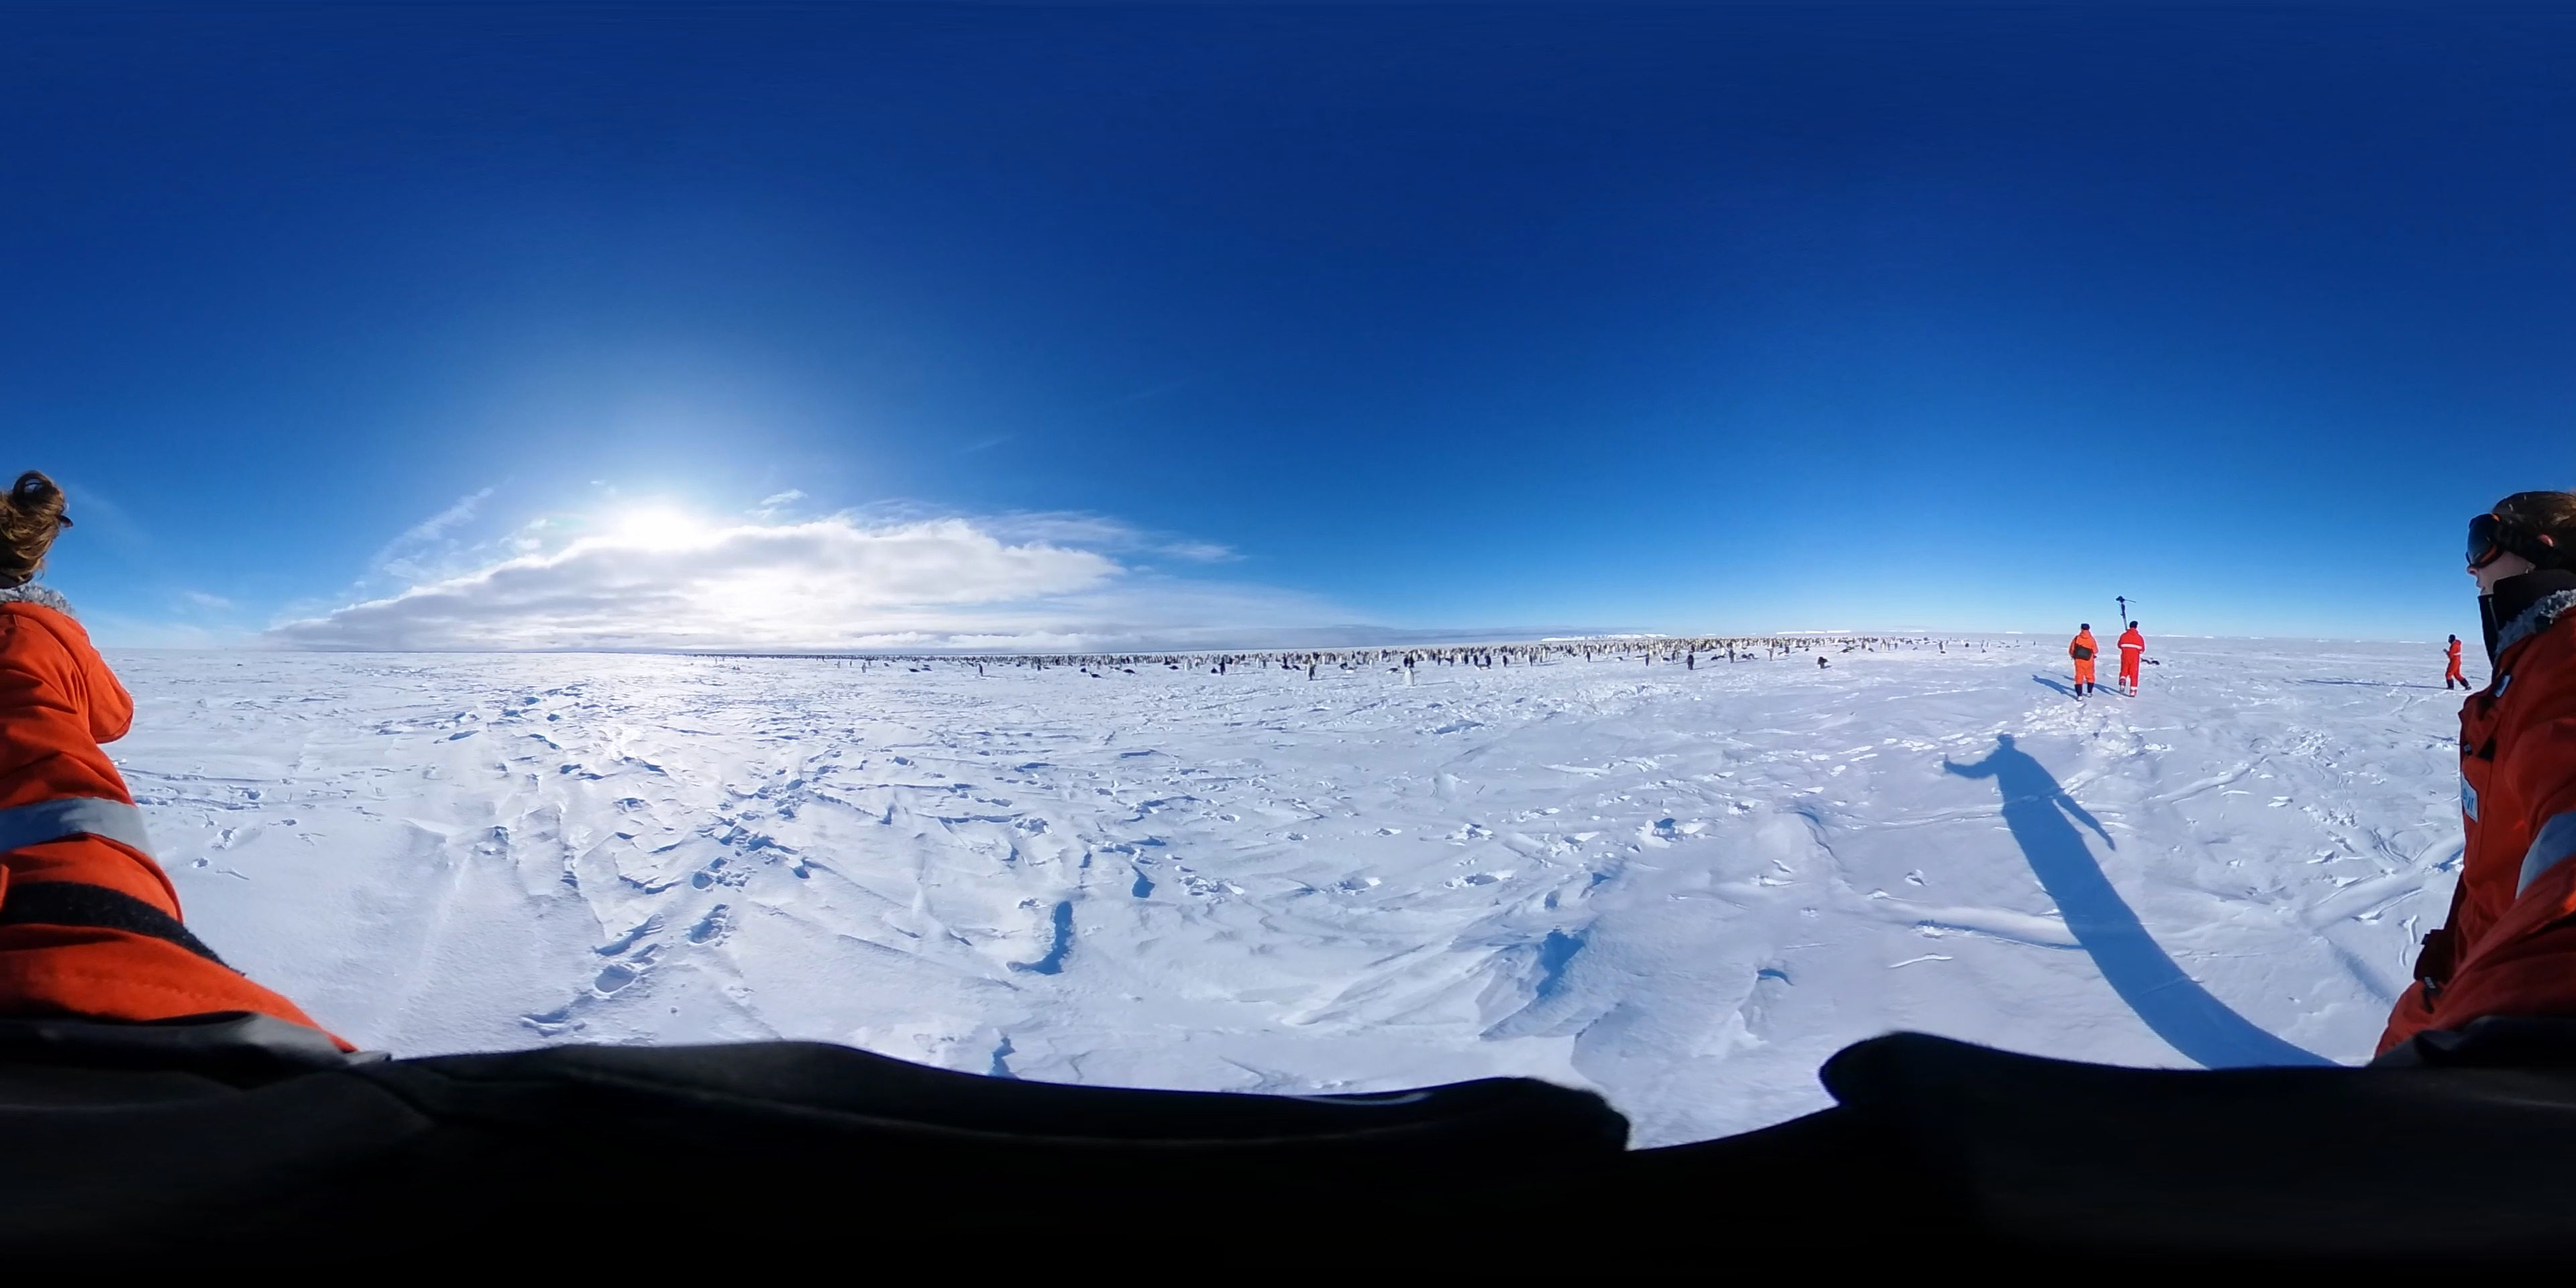adult_standing_penguin: (1405, 664, 1414, 690), (1815, 652, 1827, 672), (1686, 651, 1695, 672)
adult_toboggan_penguin: (1088, 670, 1107, 678), (1122, 670, 1137, 675)
researcher: (0, 462, 324, 1027), (2436, 486, 2576, 1038), (2114, 616, 2147, 700), (2068, 621, 2098, 710), (2436, 631, 2476, 692)
